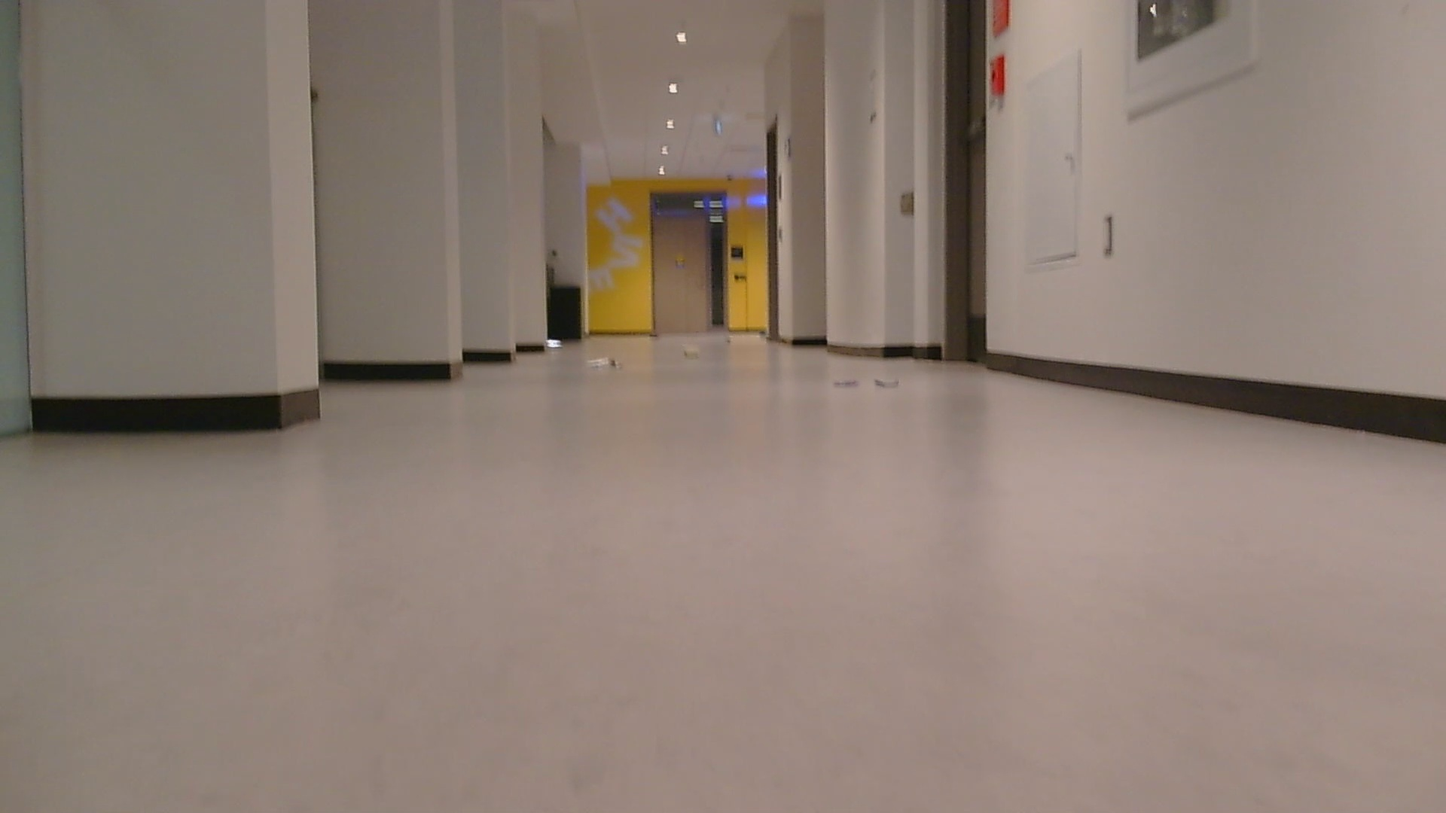carton: (829, 370, 904, 395), (589, 352, 630, 372), (683, 342, 709, 358)
